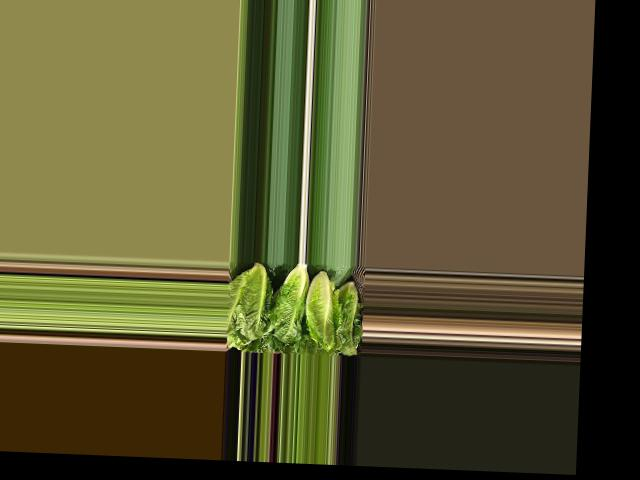lettuce: (334, 283, 358, 356)
